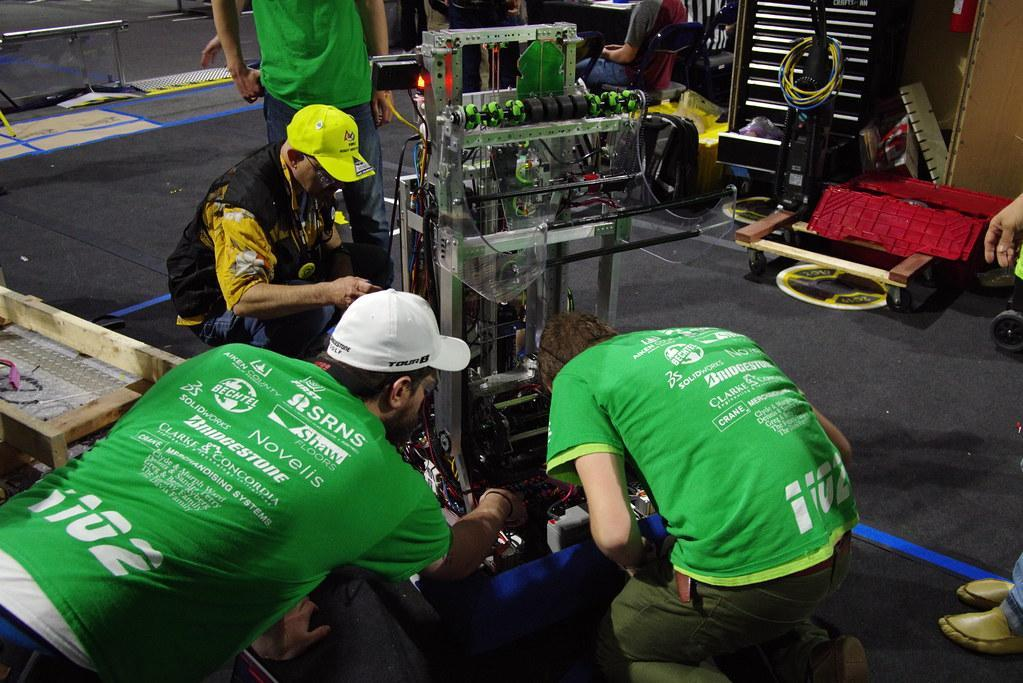robot: (364, 22, 675, 652)
